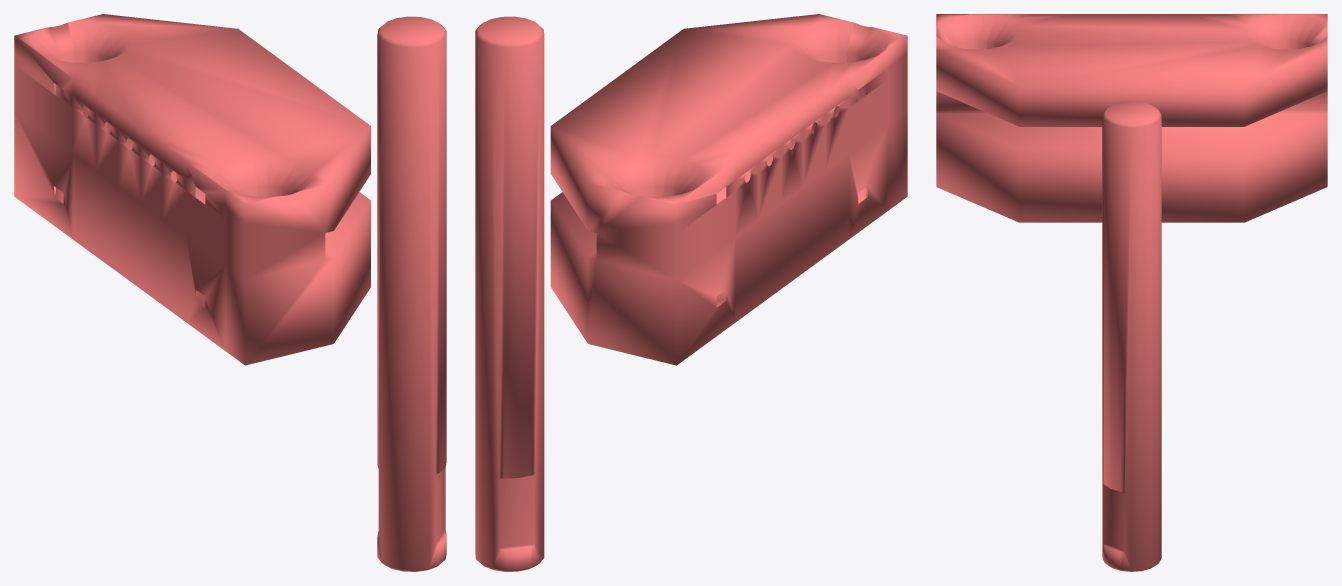
The model's file is solo12_hip_fe_fl_9.obj.
3 renders of one model, left to right at view 1: azimuth 30°, elevation 25°; view 2: azimuth 150°, elevation 25°; view 3: azimuth 270°, elevation 25°, orthographic. The views are drawn at different scales.
Size of the model in its own units: 0.0206 by 0.0334 by 0.0264.
